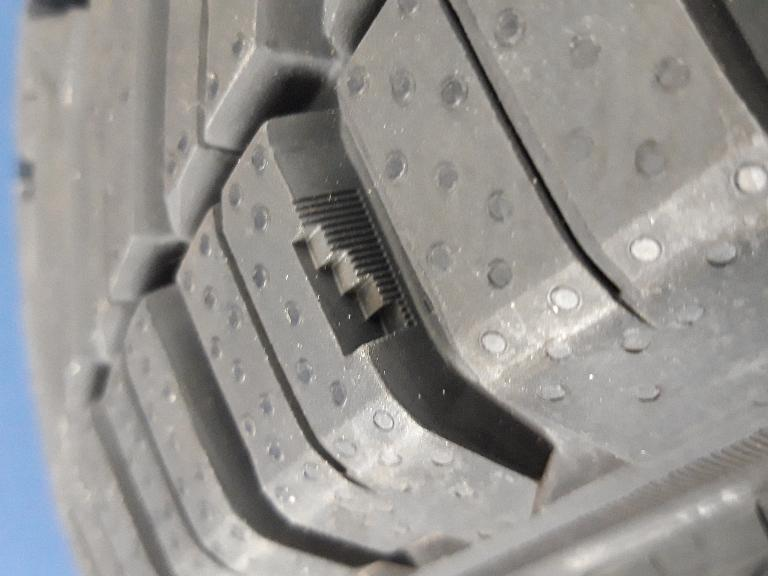temoin:100: (278, 180, 428, 368)
